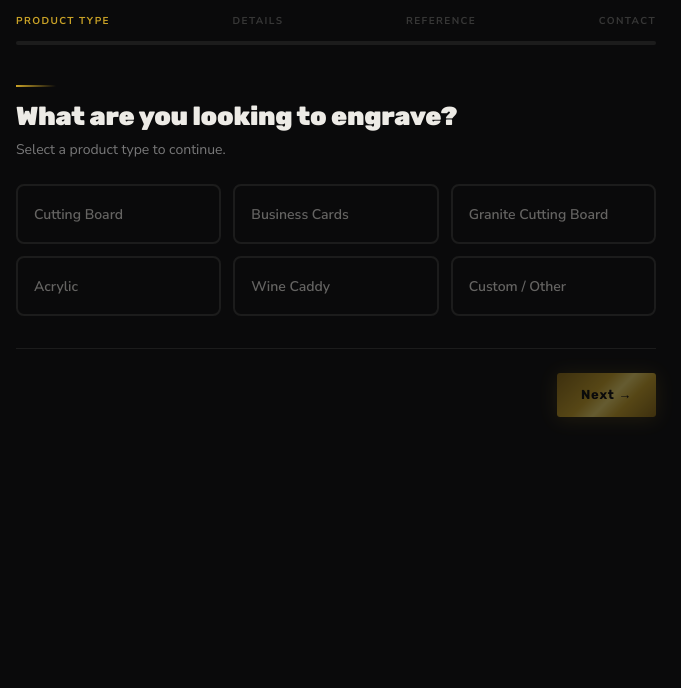
Test case: OrderWizard › advances to step 2 on Next click
Click the button "Cutting Board" at (119, 214), box [16,184,221,244]
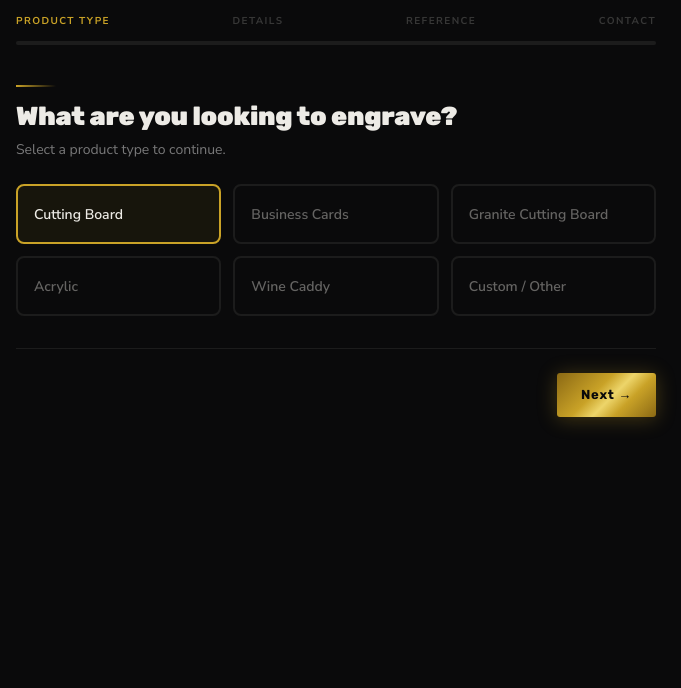
Click the button "Next →" at (606, 395), box [557,373,656,416]
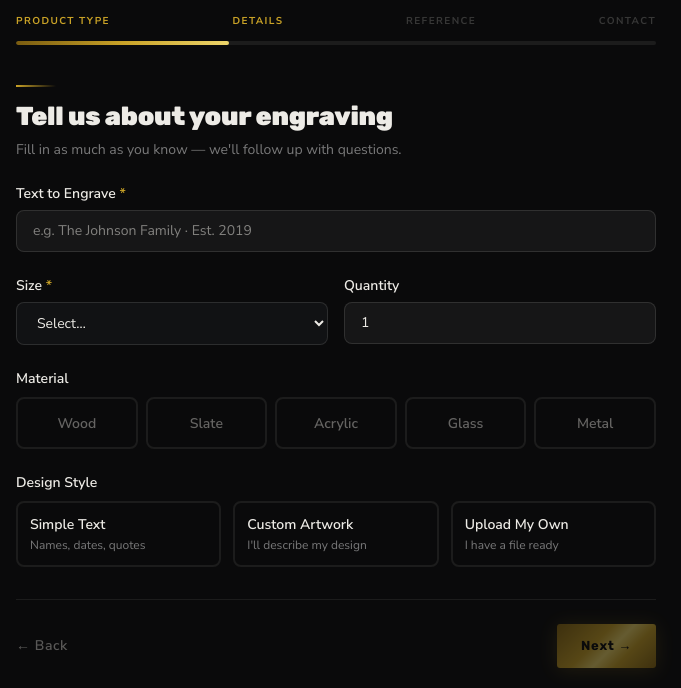
Check: the heading "Tell us about your engraving" is shown, box [16,101,393,132]
